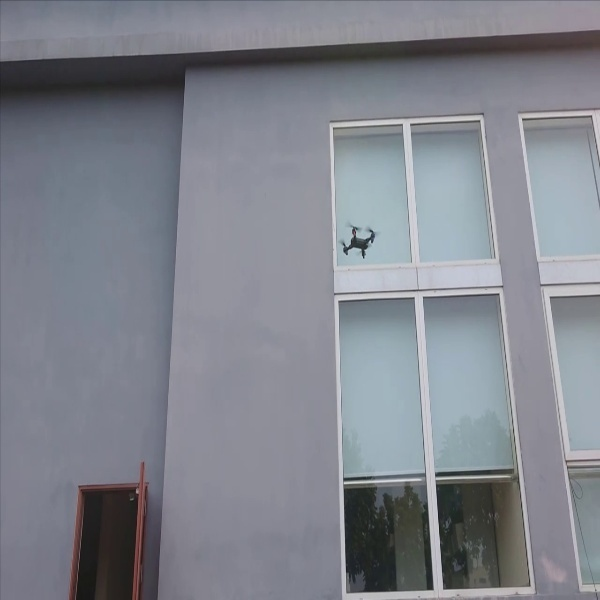drone: (336, 218, 384, 262)
